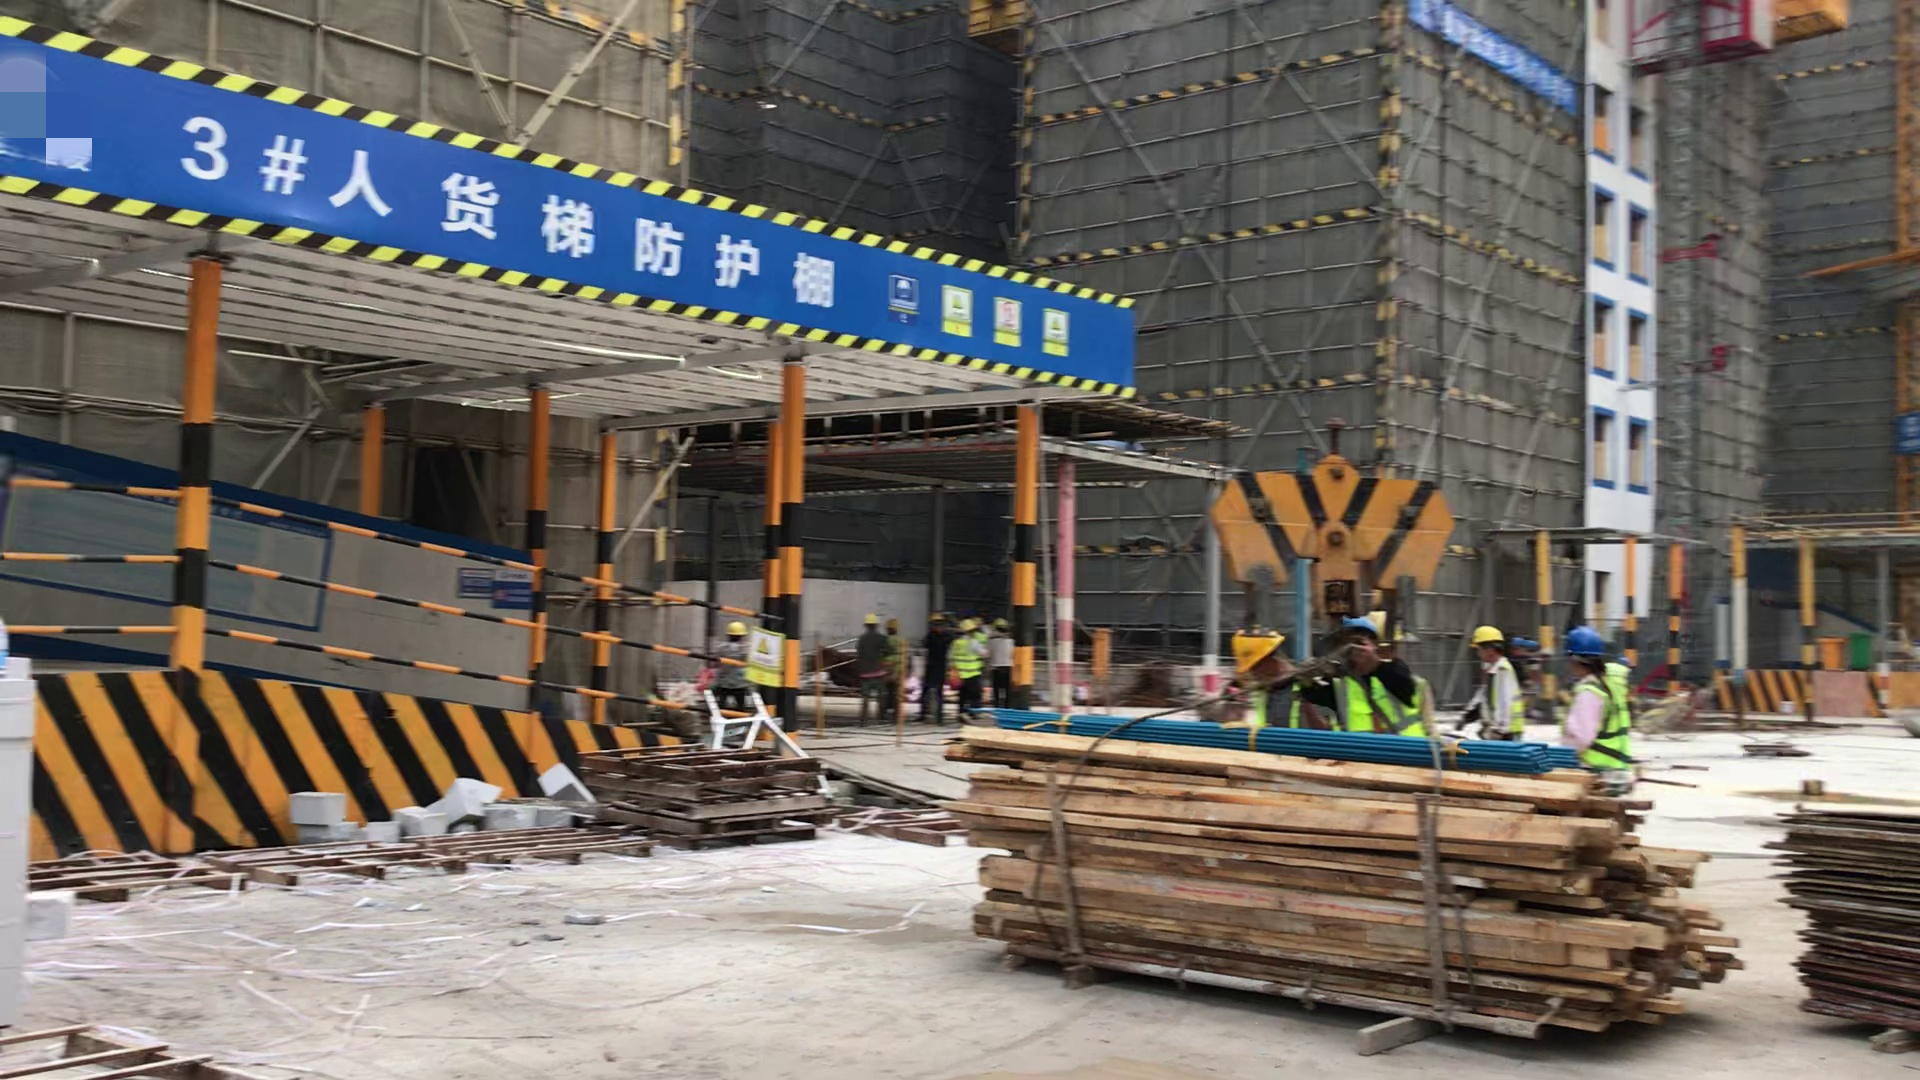board: (1776, 792, 1920, 1028)
helmet: (1228, 627, 1289, 675), (1564, 626, 1607, 665), (1342, 613, 1381, 643), (1469, 622, 1502, 648), (958, 614, 983, 635), (1513, 636, 1539, 654), (727, 619, 748, 641), (925, 610, 948, 622), (862, 612, 880, 627), (993, 615, 1008, 630), (886, 616, 900, 632)
hook: (1214, 427, 1460, 627)
person: (1325, 613, 1433, 735), (1561, 625, 1637, 783), (1216, 618, 1323, 724), (1457, 621, 1525, 741), (950, 611, 988, 734), (854, 609, 893, 729), (919, 610, 950, 723), (989, 612, 1017, 716), (717, 619, 745, 709)
slogan: (1393, 1, 1582, 129), (884, 269, 1079, 372), (741, 621, 786, 690)
vest: (1331, 672, 1423, 736), (1578, 676, 1632, 772), (1486, 662, 1524, 738), (951, 640, 983, 679)
wood: (956, 722, 1728, 1037)
